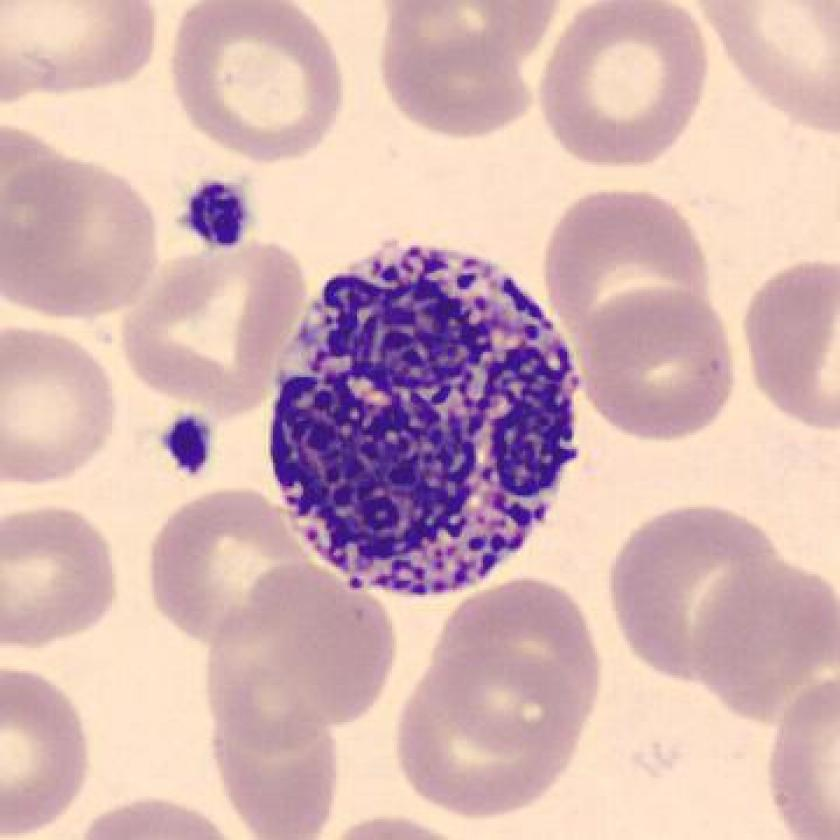basophil: (274, 233, 580, 608)
